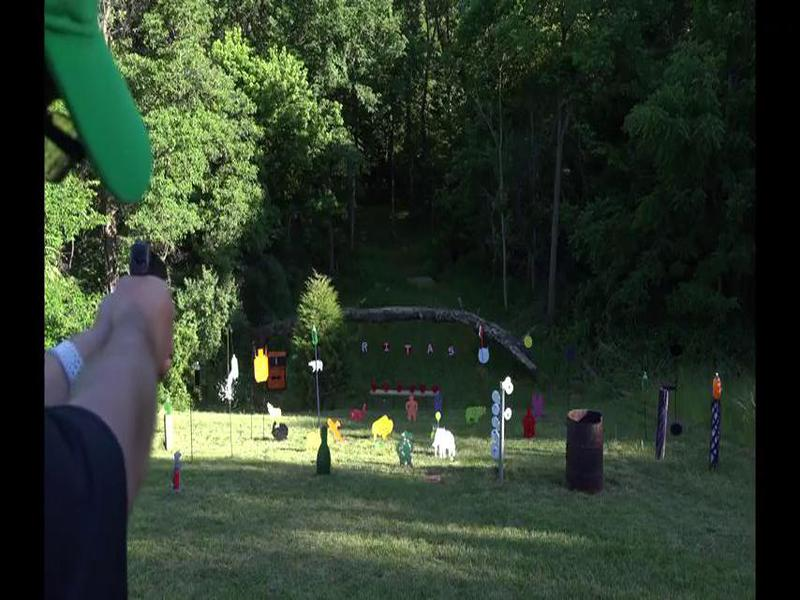Pistola: (117, 227, 195, 312)
